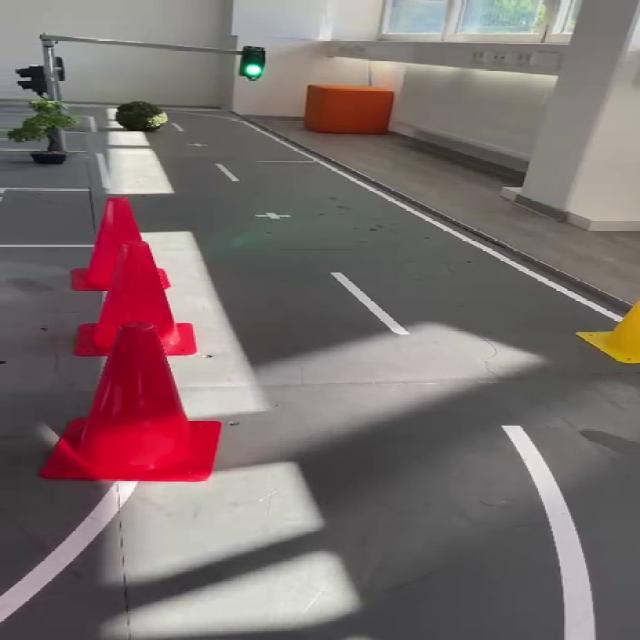Cone-red: (40, 324, 219, 481), (86, 237, 196, 355), (74, 198, 139, 290)
Cones-yellow: (578, 301, 639, 363)
